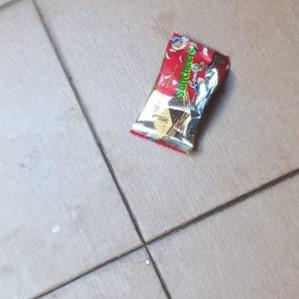Plastik: (128, 33, 230, 155)
